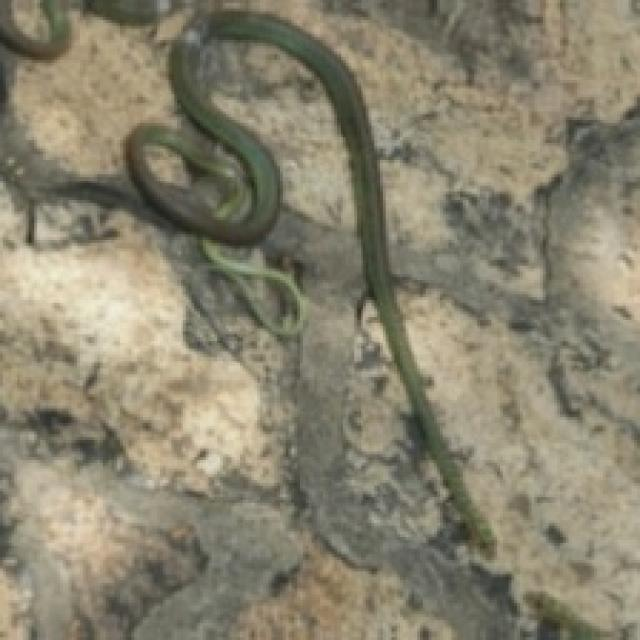paradise tree snake: (49, 11, 494, 554)
